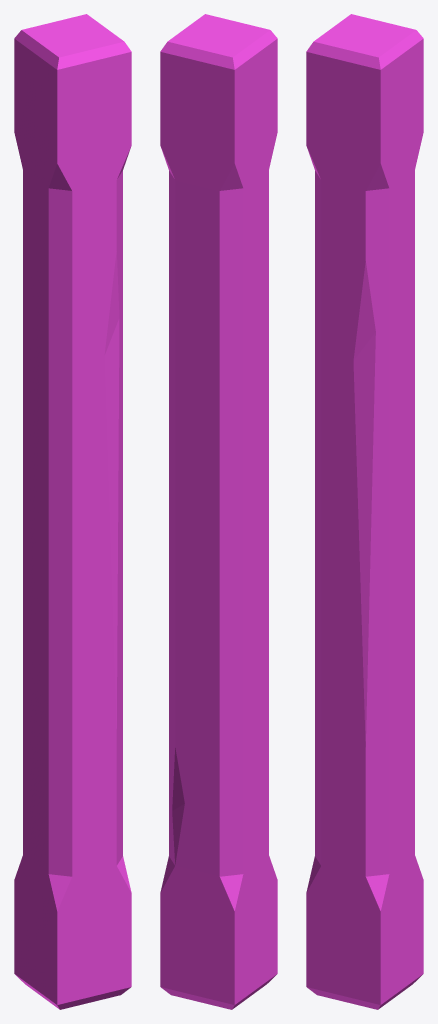
File: SM_Pillar_Wood_A_3m_Fantasy.fbx
The picture shows the model from 3 angles, left to right: view 1: azimuth 30°, elevation 25°; view 2: azimuth 150°, elevation 25°; view 3: azimuth 330°, elevation 25°; orthographic projection.
Visible parts, largest first — view 1: SM_Pillar_Wood_A_3m_Fantasy; view 2: SM_Pillar_Wood_A_3m_Fantasy; view 3: SM_Pillar_Wood_A_3m_Fantasy.
Boxes of the visible parts, x1,y1,x2,y2 form: SM_Pillar_Wood_A_3m_Fantasy: [14, 14, 131, 1009]; SM_Pillar_Wood_A_3m_Fantasy: [160, 14, 277, 1009]; SM_Pillar_Wood_A_3m_Fantasy: [306, 14, 423, 1009].
Bounding box in the file's own units: 0.25 × 3.06 × 0.25.
